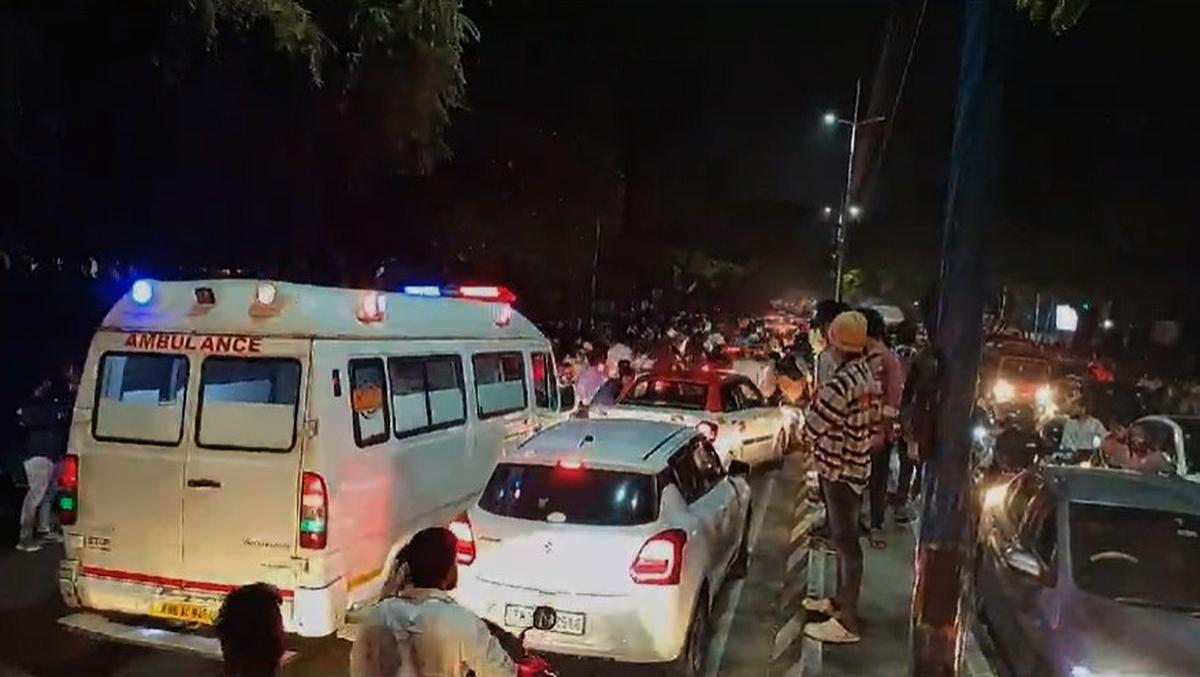ambulance: (104, 265, 512, 504)
